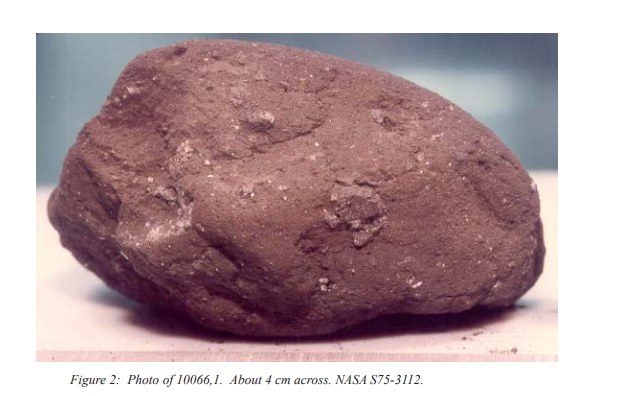Breccia: (40, 36, 549, 332)
